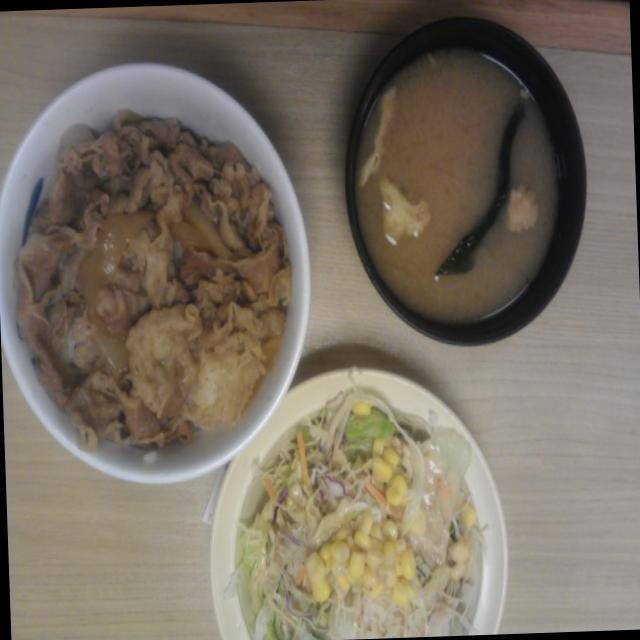Green Salad: (234, 420, 499, 640)
